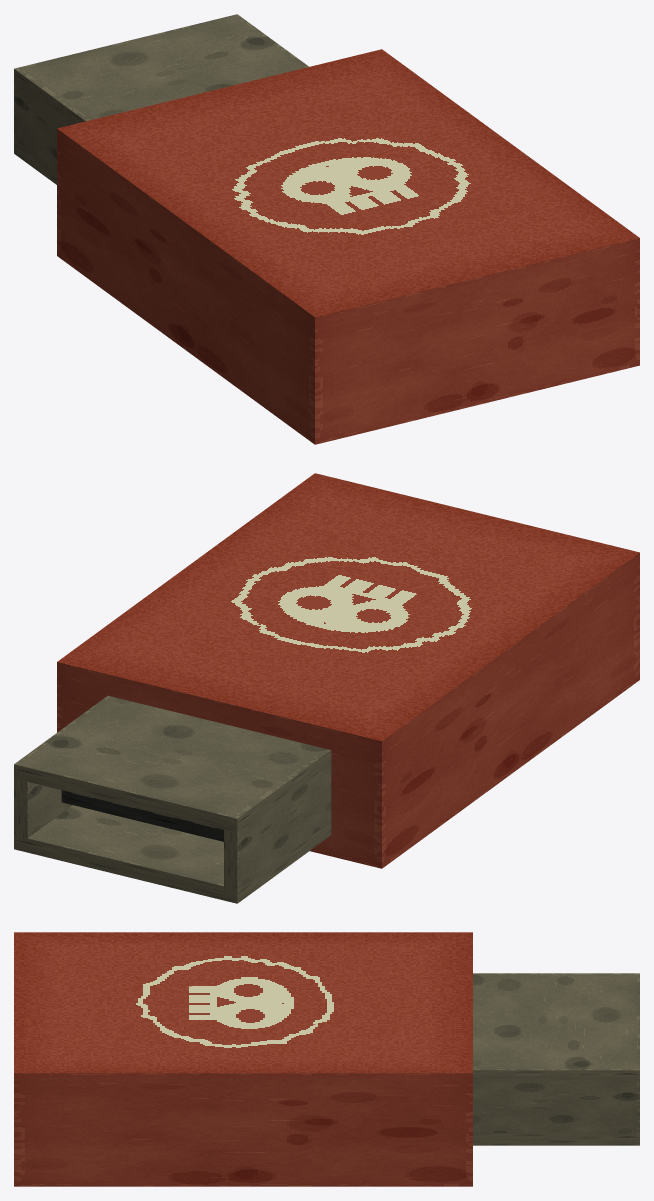
Rendered from retro_pendrive_coral.glb.
3 renders of one model, top to bottom at view 1: azimuth 30°, elevation 25°; view 2: azimuth 150°, elevation 25°; view 3: azimuth 270°, elevation 25°, orthographic. The views are drawn at different scales.
Parts seen in each view (by area): view 1: retro_pendrive_coral; view 2: retro_pendrive_coral; view 3: retro_pendrive_coral.
Boxes of the visible parts, x1,y1,x2,y2 form: retro_pendrive_coral: [14, 14, 639, 444]; retro_pendrive_coral: [14, 473, 639, 903]; retro_pendrive_coral: [14, 932, 639, 1186].
Size of the model in its own units: 0.048 by 0.018 by 0.09.
Materials: 4 (4 with a texture image).
